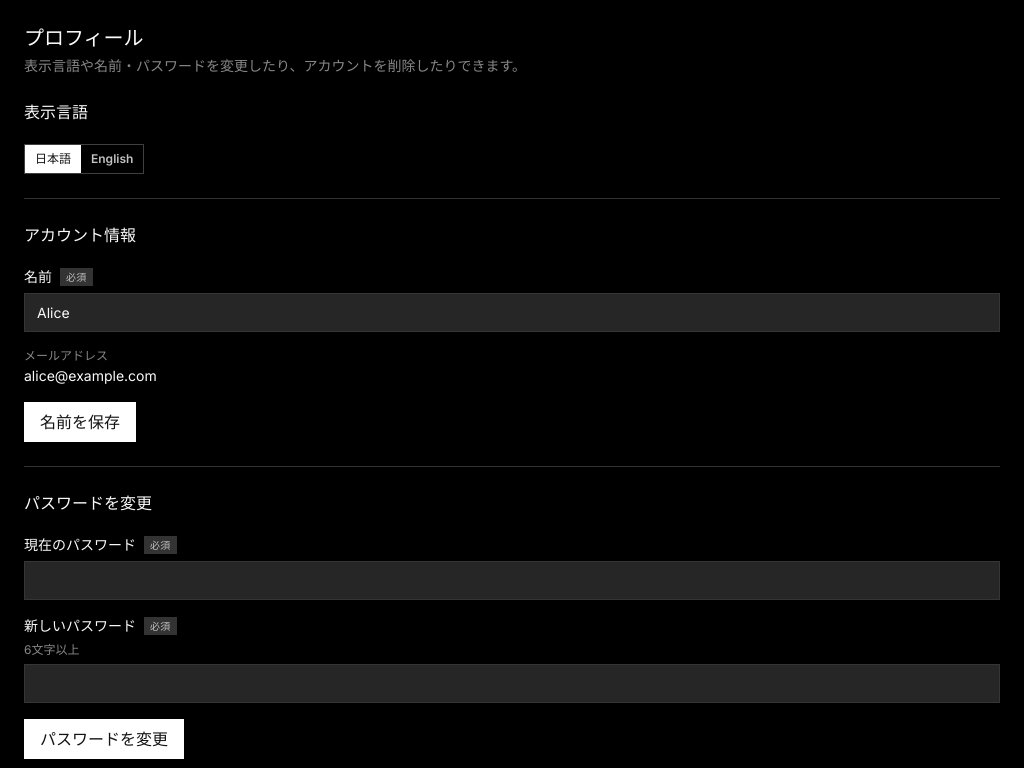
it: ProfilePage（パスワード変更） › 現在のパスワードが違う（400・INVALID_CURRENT_PASSWORD）場合、エラートーストを出し自動ログアウトしない
This screenshot has width=1024, height=768.
Expected: the field showing "Alice" is shown, [24, 293, 1000, 332]
Step 1. Type "wrong-password" into the password field labelled "現在のパスワード 必須" → [512, 580], box [24, 561, 1000, 600]
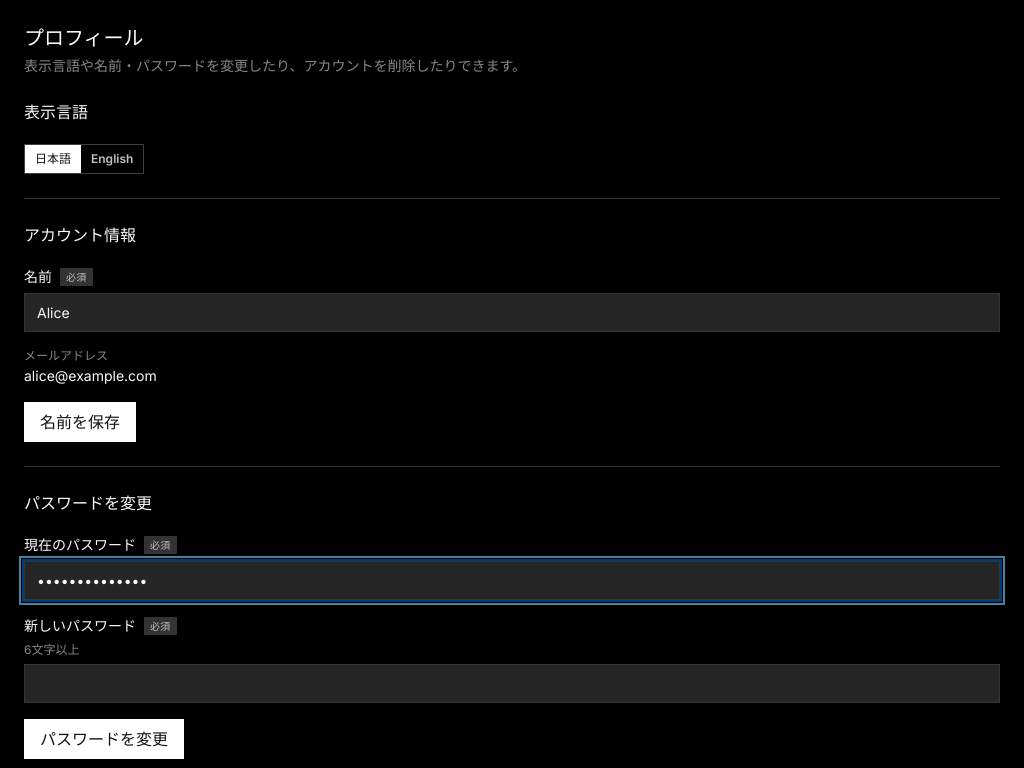
Step 2. Type "newpassword456" into the password field labelled "新しいパスワード 必須" → [512, 684], box [24, 664, 1000, 703]
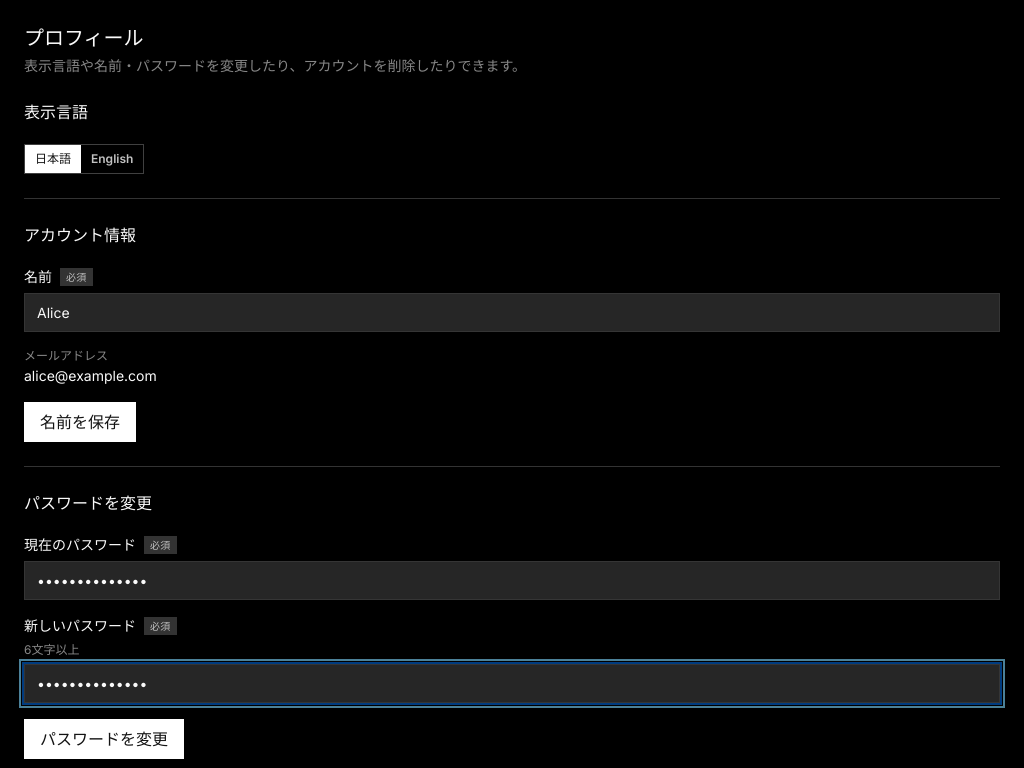
Step 3. Click the button "パスワードを変更" → [104, 739], box [24, 719, 184, 759]
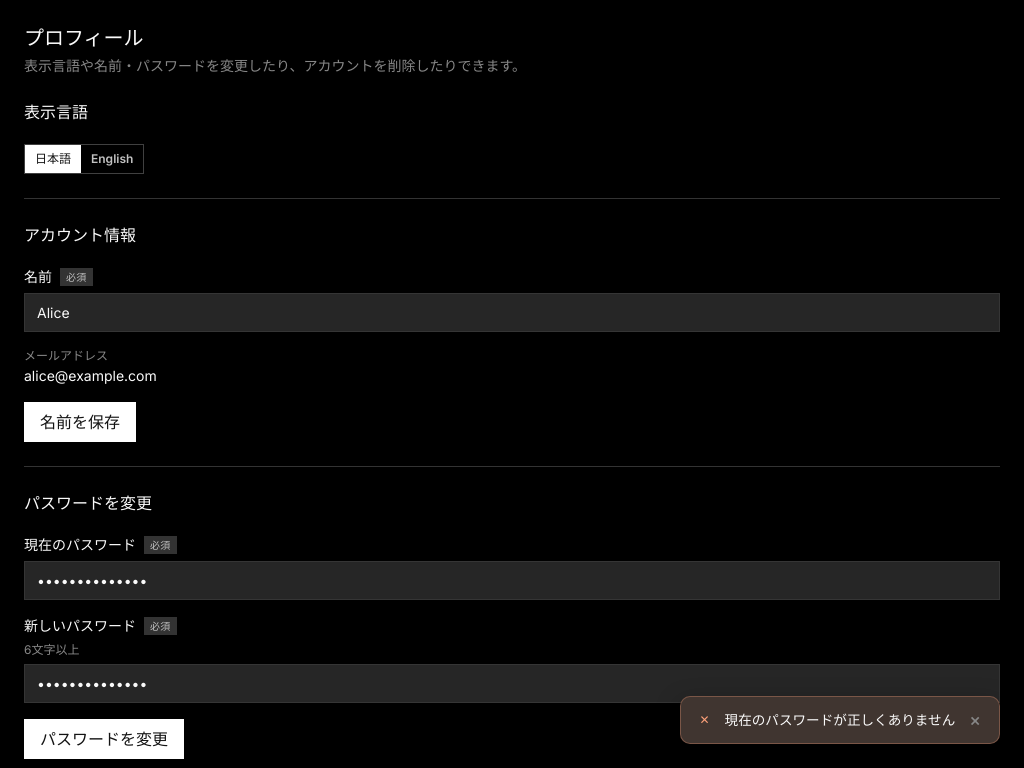
Expected: the text "現在のパスワードが正しくありません" is shown, [725, 711, 955, 730]
